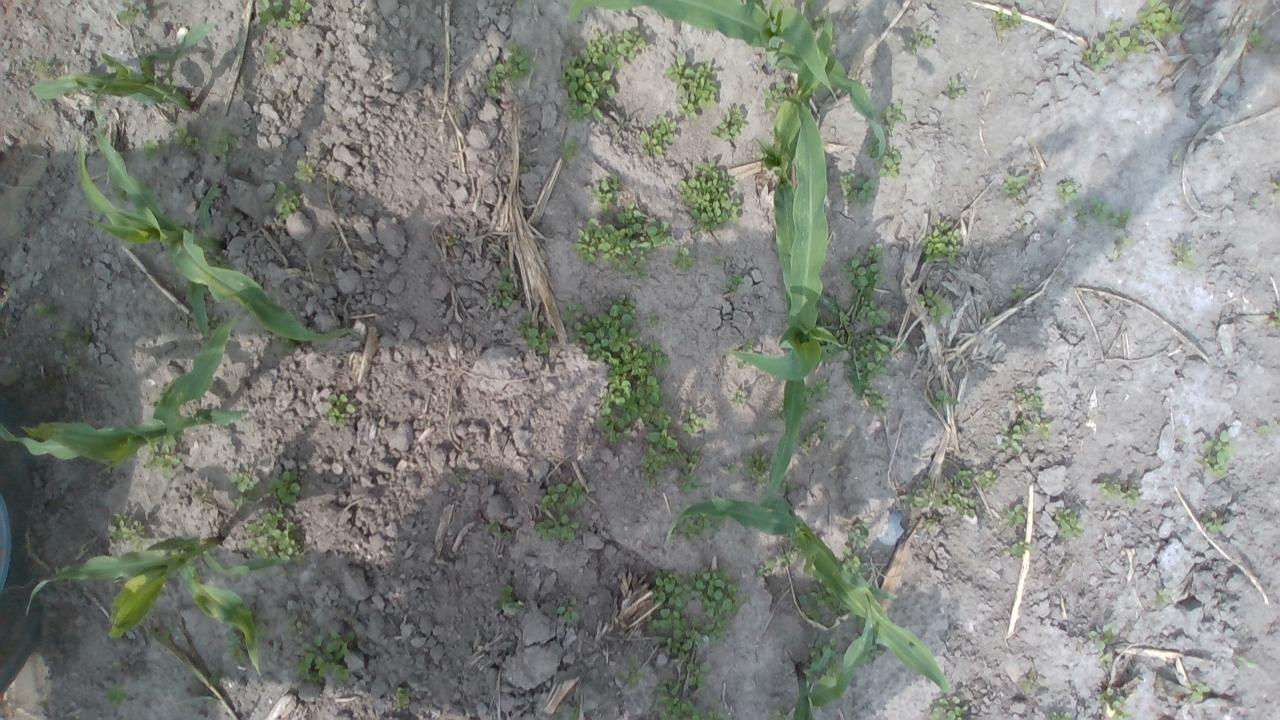Maize: (73, 74, 365, 348), (664, 498, 954, 702), (564, 1, 891, 168), (754, 1, 851, 509), (25, 531, 294, 692), (1, 304, 260, 466), (28, 21, 216, 118), (786, 587, 880, 720)
Weeds: (562, 293, 708, 494), (653, 567, 745, 720), (818, 242, 892, 424), (796, 519, 871, 629), (564, 27, 646, 123), (571, 203, 677, 275), (1052, 176, 1136, 262), (226, 468, 301, 563), (1085, 0, 1185, 70), (899, 468, 1000, 527), (676, 161, 745, 234), (139, 123, 237, 170), (664, 52, 720, 118), (1000, 386, 1052, 454), (297, 628, 356, 683), (535, 480, 585, 544), (482, 42, 538, 99), (751, 530, 809, 580), (869, 102, 906, 176), (918, 218, 961, 266), (804, 378, 830, 448), (255, 0, 315, 29), (518, 314, 558, 356), (1202, 424, 1234, 474), (838, 169, 878, 207), (914, 286, 954, 322), (721, 454, 770, 483), (54, 324, 82, 374), (1096, 476, 1144, 505), (102, 514, 148, 544), (642, 116, 678, 154), (648, 701, 719, 720), (808, 636, 841, 676), (489, 270, 520, 312), (144, 442, 182, 476), (1006, 502, 1029, 556), (1167, 238, 1199, 273), (717, 105, 745, 142), (322, 392, 354, 424), (989, 8, 1026, 34), (592, 172, 620, 204), (929, 698, 969, 720), (273, 183, 296, 220), (904, 26, 936, 52), (493, 584, 521, 613), (1184, 680, 1210, 711), (1100, 687, 1124, 720), (1058, 507, 1081, 540), (998, 172, 1026, 199), (940, 77, 969, 102), (1248, 26, 1274, 52), (292, 159, 314, 183), (1088, 626, 1114, 646), (1203, 509, 1223, 535), (1021, 670, 1040, 697), (934, 391, 961, 410), (676, 248, 698, 271), (560, 137, 578, 165), (556, 605, 582, 624), (738, 340, 756, 367), (618, 666, 642, 686), (1007, 282, 1026, 306), (723, 274, 741, 298), (117, 1, 137, 22), (390, 687, 410, 707), (262, 40, 280, 62), (731, 385, 746, 408), (1268, 302, 1280, 330), (27, 304, 53, 316), (1255, 422, 1272, 440), (483, 520, 503, 534), (1049, 710, 1072, 720), (518, 162, 532, 176), (1154, 589, 1163, 606)
